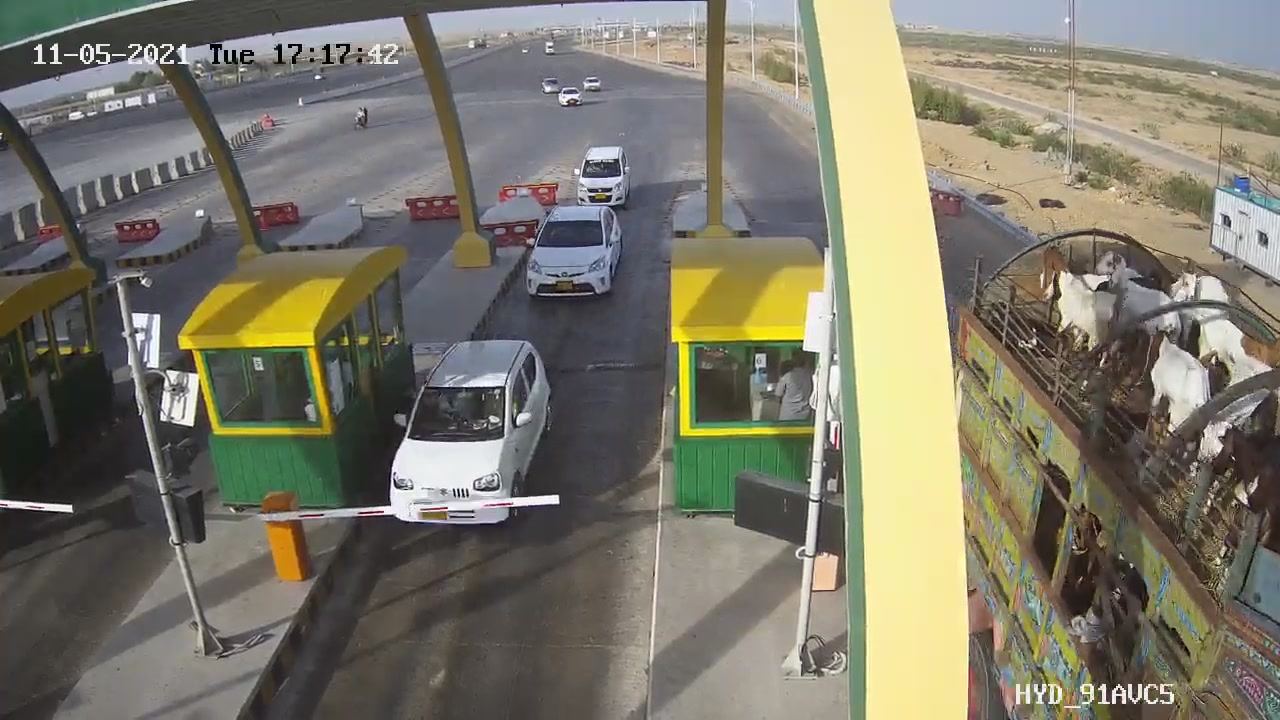F1: (377, 327, 572, 543), (508, 195, 634, 309)
